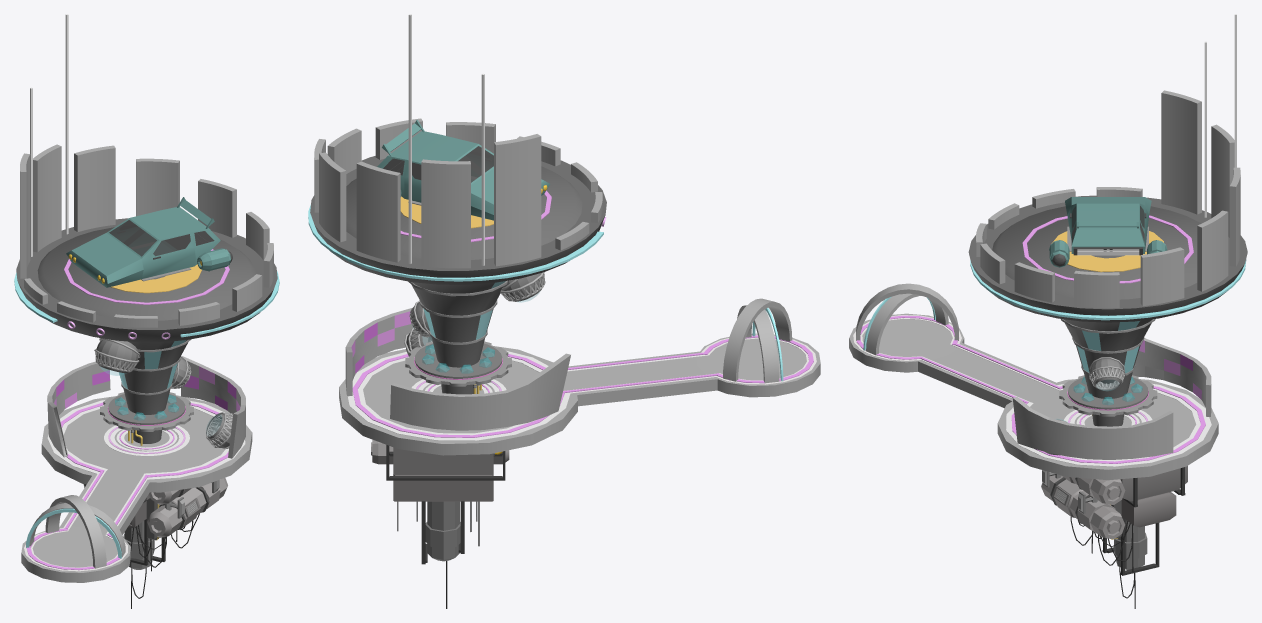
3 views of the same model, side by side, from view 1: azimuth 30°, elevation 25°; view 2: azimuth 150°, elevation 25°; view 3: azimuth 270°, elevation 25° (orthographic). The views are drawn at different scales.
Parts seen in each view (by area): view 1: cylinder_28, cylinder_0, box_321, cylinder_345, annulus_279, annulus_281, box_320, annulus_277, annulus_265, annulus_267, box_344, annulus_287 (+32 smaller); view 2: cylinder_28, cylinder_0, annulus_265, annulus_333, annulus_281, box_344, annulus_279, cylinder_345, annulus_441, box_320, box_372, box_361 (+16 smaller); view 3: cylinder_28, cylinder_0, annulus_267, annulus_333, cylinder_345, box_344, annulus_265, annulus_287, box_320, annulus_277, box_321, annulus_281 (+21 smaller).
Boxes of the visible parts, bbox=[...] form: cylinder_28: bbox=[16, 218, 277, 443]; cylinder_0: bbox=[41, 395, 252, 492]; box_321: bbox=[84, 219, 220, 287]; cylinder_345: bbox=[21, 526, 130, 582]; annulus_279: bbox=[74, 145, 115, 231]; annulus_281: bbox=[33, 144, 61, 252]; box_320: bbox=[66, 207, 195, 276]; annulus_277: bbox=[136, 158, 179, 216]; annulus_265: bbox=[47, 361, 110, 457]; annulus_267: bbox=[181, 356, 245, 458]; box_344: bbox=[59, 476, 149, 534]; annulus_287: bbox=[198, 179, 236, 237]; cylinder_28: bbox=[310, 151, 606, 394]; cylinder_0: bbox=[339, 346, 577, 455]; annulus_265: bbox=[390, 353, 570, 430]; annulus_333: bbox=[494, 134, 541, 266]; annulus_281: bbox=[421, 159, 470, 268]; box_344: bbox=[567, 351, 717, 406]; annulus_279: bbox=[356, 161, 400, 262]; cylinder_345: bbox=[696, 333, 820, 397]; annulus_441: bbox=[347, 351, 570, 440]; box_320: bbox=[377, 143, 493, 220]; box_372: bbox=[393, 474, 493, 501]; box_361: bbox=[393, 447, 493, 475]; cylinder_28: bbox=[968, 195, 1247, 426]; cylinder_0: bbox=[997, 379, 1218, 480]; annulus_267: bbox=[1012, 397, 1173, 459]; annulus_333: bbox=[1161, 90, 1201, 214]; cylinder_345: bbox=[849, 313, 964, 372]; box_344: bbox=[918, 343, 1055, 408]; annulus_265: bbox=[1132, 338, 1211, 416]; annulus_287: bbox=[1140, 247, 1184, 306]; box_320: bbox=[1103, 197, 1151, 253]; annulus_277: bbox=[1197, 210, 1228, 291]; box_321: bbox=[1065, 197, 1113, 253]; annulus_281: bbox=[1211, 124, 1234, 237].
Bounding box in the file's own units: 13.8 × 22.47 × 13.85.
